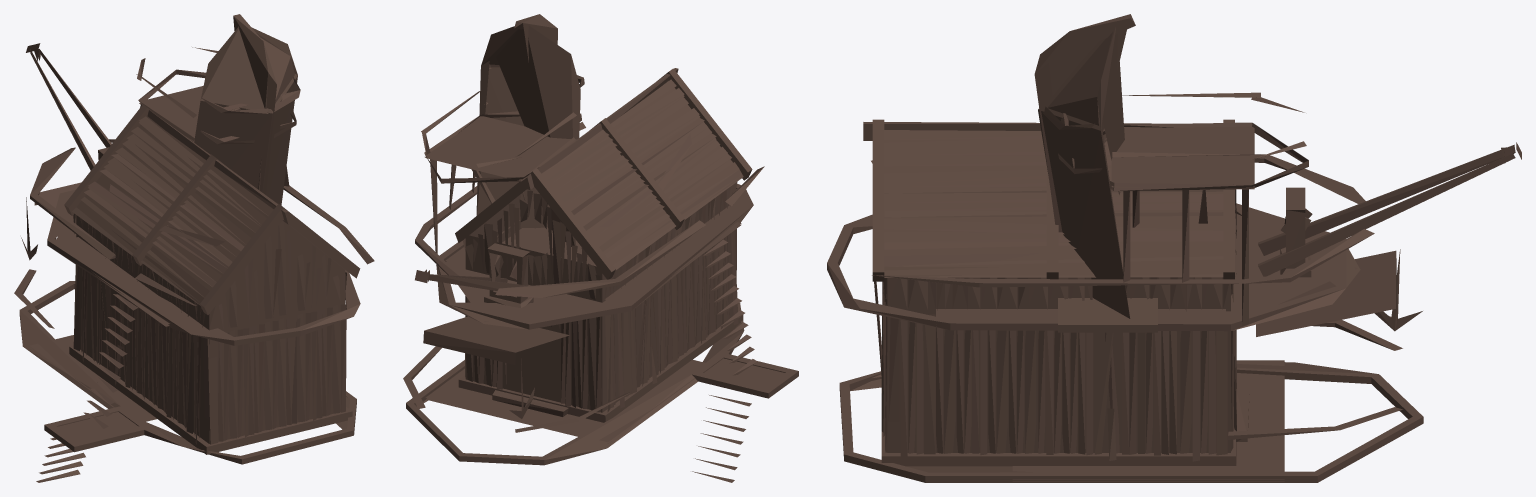
File: fishing-hut.lod1.glb
The picture shows the model from 3 angles, left to right: view 1: azimuth 30°, elevation 25°; view 2: azimuth 150°, elevation 25°; view 3: azimuth 270°, elevation 25°; orthographic projection. The views are drawn at different scales.
Visible parts, largest first — view 1: Box040_Material #2_0; view 2: Box040_Material #2_0; view 3: Box040_Material #2_0.
Boxes of the visible parts, box(x1,y1,x2,y2) form: Box040_Material #2_0: box(14, 14, 374, 482); Box040_Material #2_0: box(403, 14, 798, 482); Box040_Material #2_0: box(827, 14, 1521, 482).
Size of the model in its own units: 4.08 by 5.93 by 6.99.
